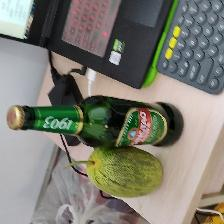gua: (86, 150, 168, 197)
